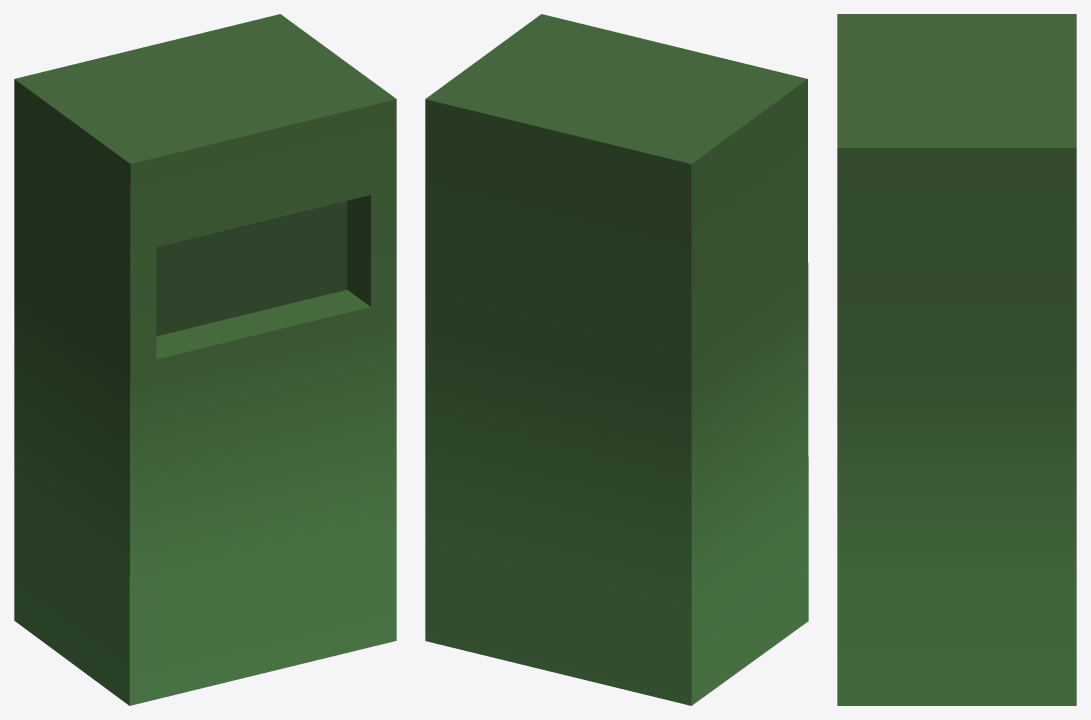
Rendered from SM_GameArea_TrashCan_01.fbx.
3 renders of one model, left to right at view 1: azimuth 30°, elevation 25°; view 2: azimuth 150°, elevation 25°; view 3: azimuth 270°, elevation 25°, orthographic. The views are drawn at different scales.
Visible parts, largest first — view 1: SM_GameArea_TrashCan_01; view 2: SM_GameArea_TrashCan_01; view 3: SM_GameArea_TrashCan_01.
Boxes of the visible parts, x1,y1,x2,y2 form: SM_GameArea_TrashCan_01: (14, 14, 396, 705); SM_GameArea_TrashCan_01: (425, 14, 808, 705); SM_GameArea_TrashCan_01: (837, 14, 1076, 705).
Bounding box in the file's own units: 1.71 × 3.32 × 1.29.
Materials: 1 (1 with a texture image).
